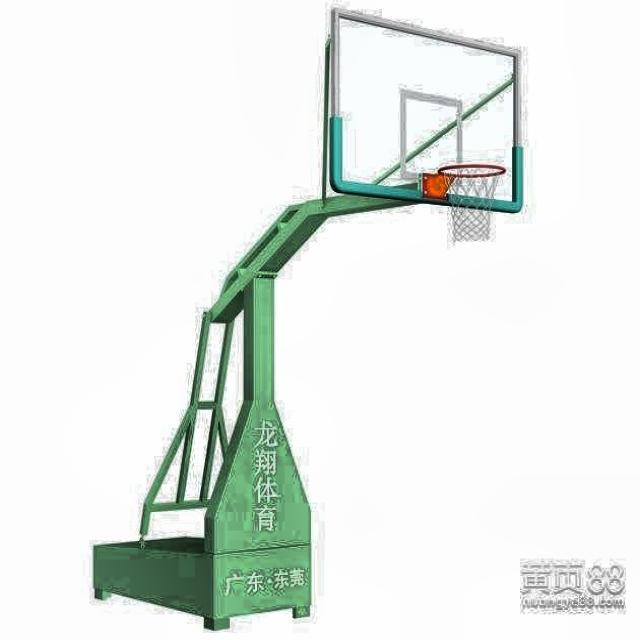rim: (440, 162, 504, 243)
